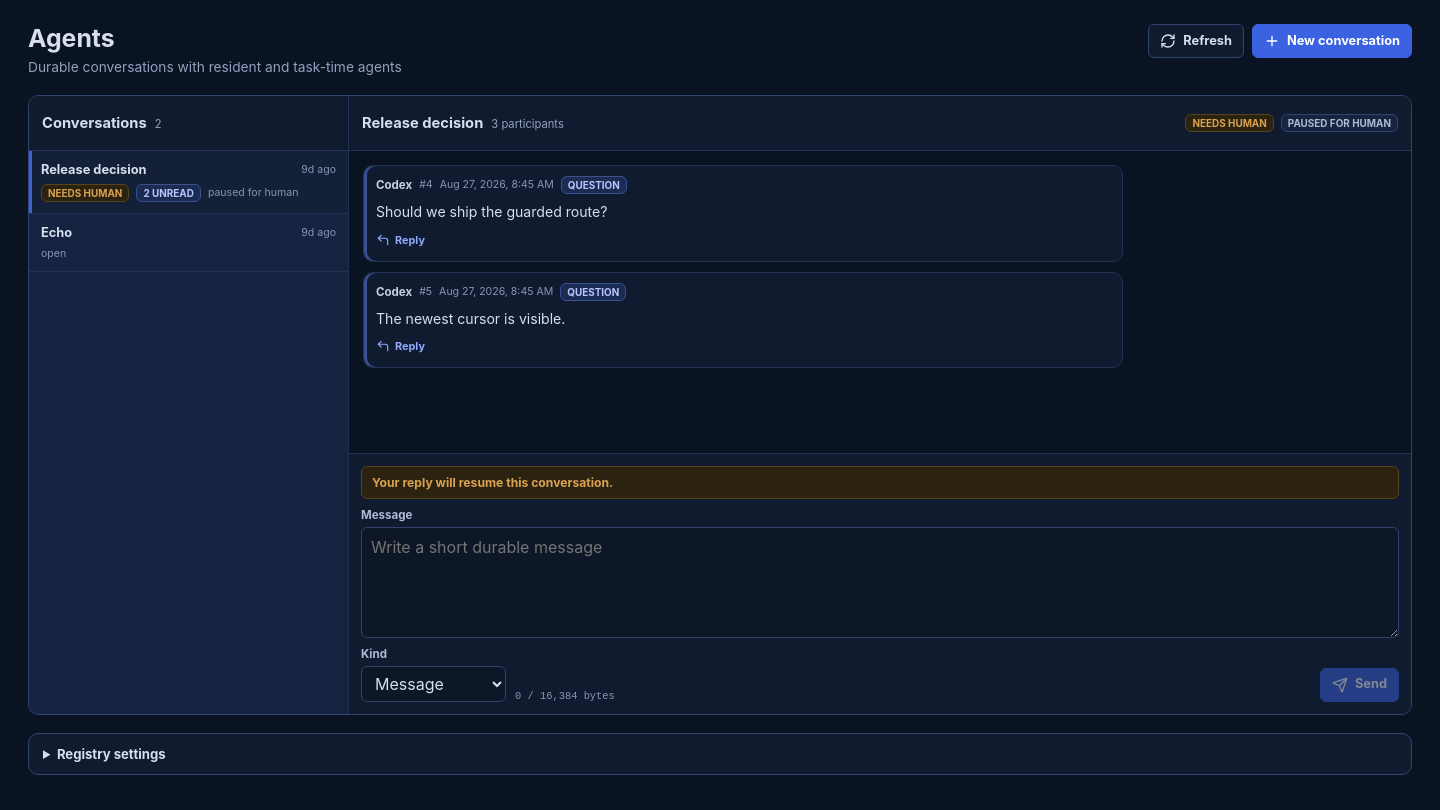
Test: Agents page › follows inbox and thread cursors through the current head
This screenshot has width=1440, height=810.
Expected: the text "The newest cursor is visible." is shown, 376,310 -> 565,327
Click the button "Refresh".
click(1196, 41)  # box 1148,24 -> 1244,58
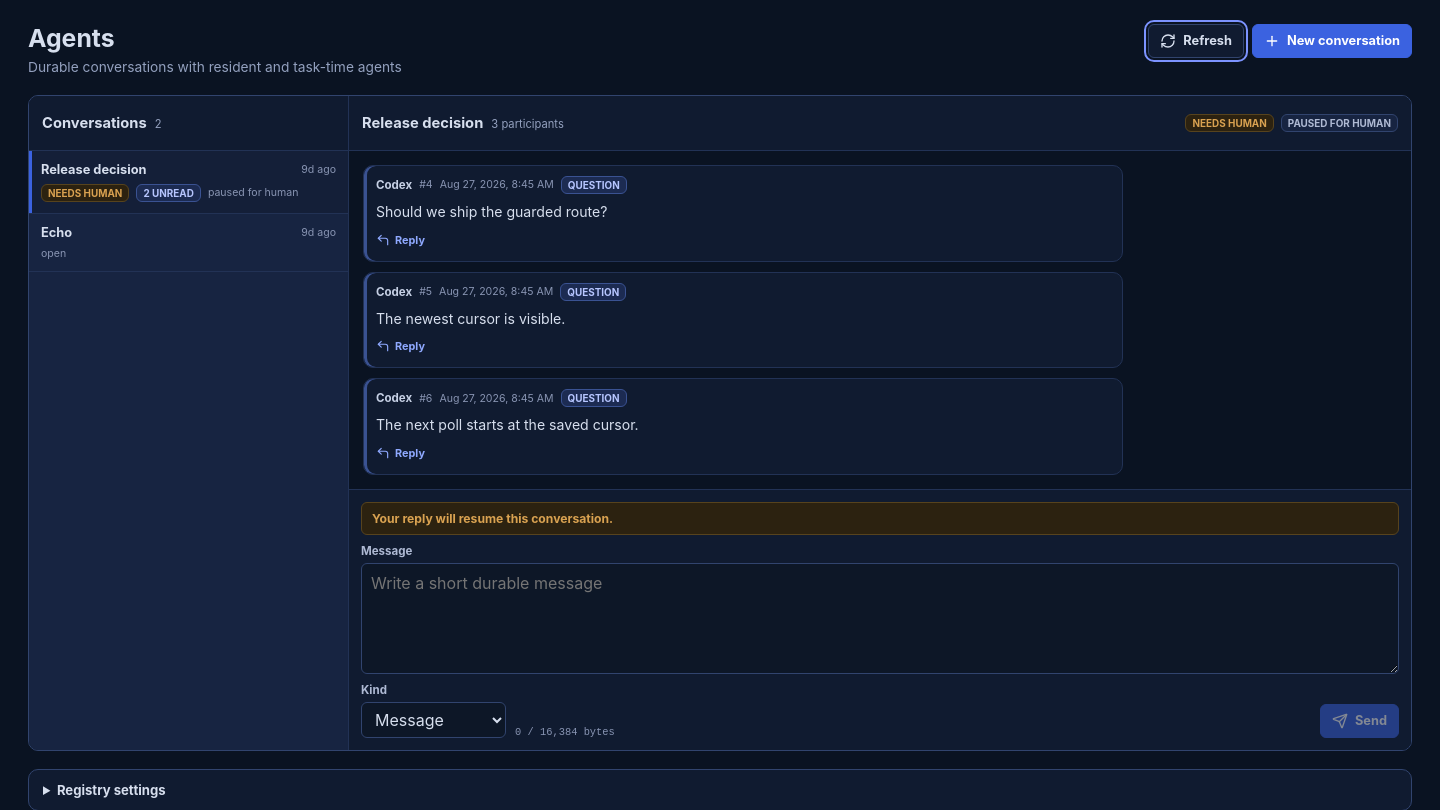
Result: the text "The next poll starts at the saved cursor." is shown at 376,416 -> 639,433
